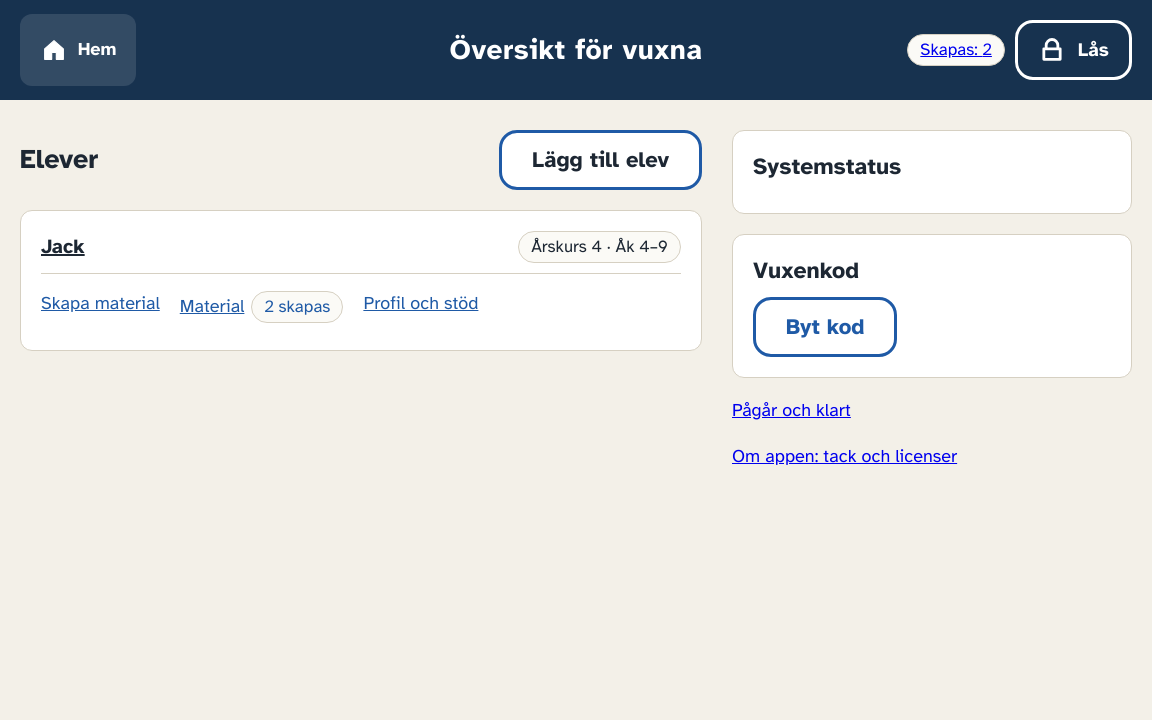
Test: creation queue (adult) › shows "Skapas: N" in the header everywhere, linking to the household list
The width and height of the screenshot is (1152, 720).
Click the link "Skapas: 2" at (956, 50), box [907,34,1005,66]
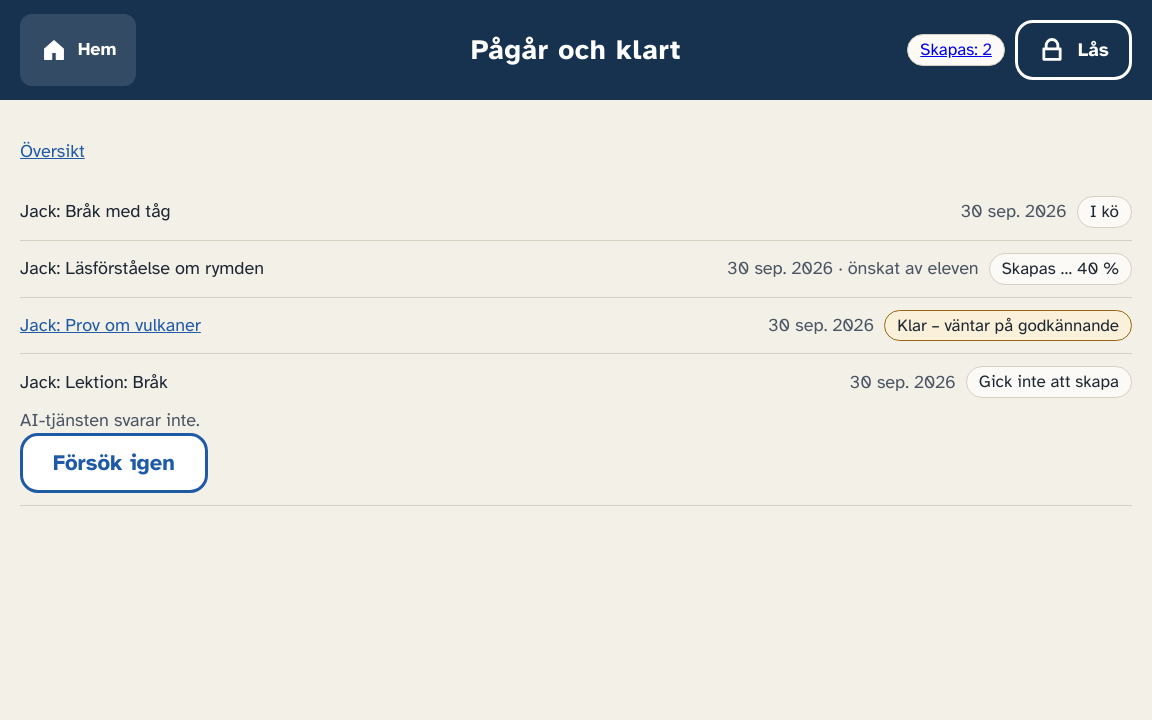
Expected: the heading "Pågår och klart" is shown, [471,30,681,70]
Expected: the text "Jack: Bråk med tåg" is shown, [20,200,170,222]
Expected: the link "Jack: Prov om vulkaner" is shown, [20,314,201,336]
